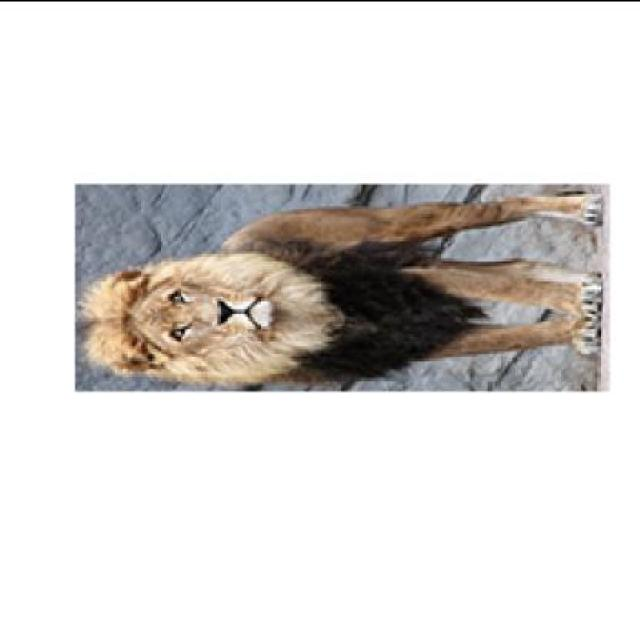Lion: (63, 157, 639, 415)
